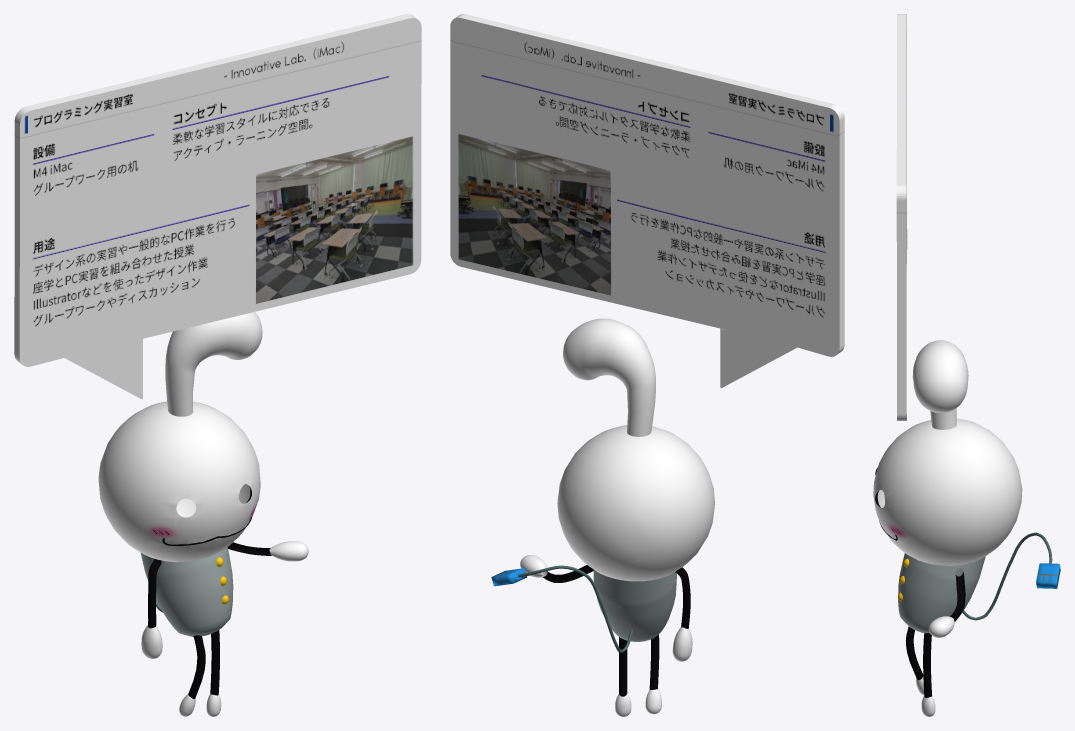
Rendered from innovative_2.glb.
3 views of the same model, side by side, from view 1: azimuth 30°, elevation 25°; view 2: azimuth 150°, elevation 25°; view 3: azimuth 270°, elevation 25° (orthographic). The views are drawn at different scales.
Visible parts, largest first — view 1: 吹き出し１, 頭, 胴, 触覚, 吹き出し２, 左拳; view 2: 吹き出し１, 頭, 触覚, 胴, 吹き出し２, 尻尾; view 3: 頭, 吹き出し１, 胴, 触覚, マウス, 尻尾, 左脚, 左拳, 右脚, 左腕.
Boxes of the visible parts, box(x1,y1,x2,y2) form: 吹き出し１: box(14, 14, 421, 366); 頭: box(98, 401, 260, 562); 胴: box(140, 547, 233, 636); 触覚: box(165, 312, 262, 416); 吹き出し２: box(64, 339, 142, 399); 左拳: box(269, 541, 308, 561); 吹き出し１: box(450, 14, 844, 356); 頭: box(557, 425, 714, 581); 触覚: box(563, 318, 655, 436); 胴: box(593, 570, 676, 641); 吹き出し２: box(720, 328, 797, 388); 尻尾: box(518, 565, 633, 652); 頭: box(873, 418, 1022, 565); 吹き出し１: box(896, 14, 907, 420); 胴: box(898, 553, 985, 633); 触覚: box(912, 340, 968, 429); マウス: box(1036, 563, 1060, 588); 尻尾: box(962, 532, 1052, 620); 左脚: box(923, 633, 932, 697); 左拳: box(928, 616, 954, 637); 右脚: box(905, 626, 923, 680); 左腕: box(950, 572, 965, 621).
Bounding box in the file's own units: 14.43 × 22.91 × 6.36.
Materials: 12 (2 with a texture image).
